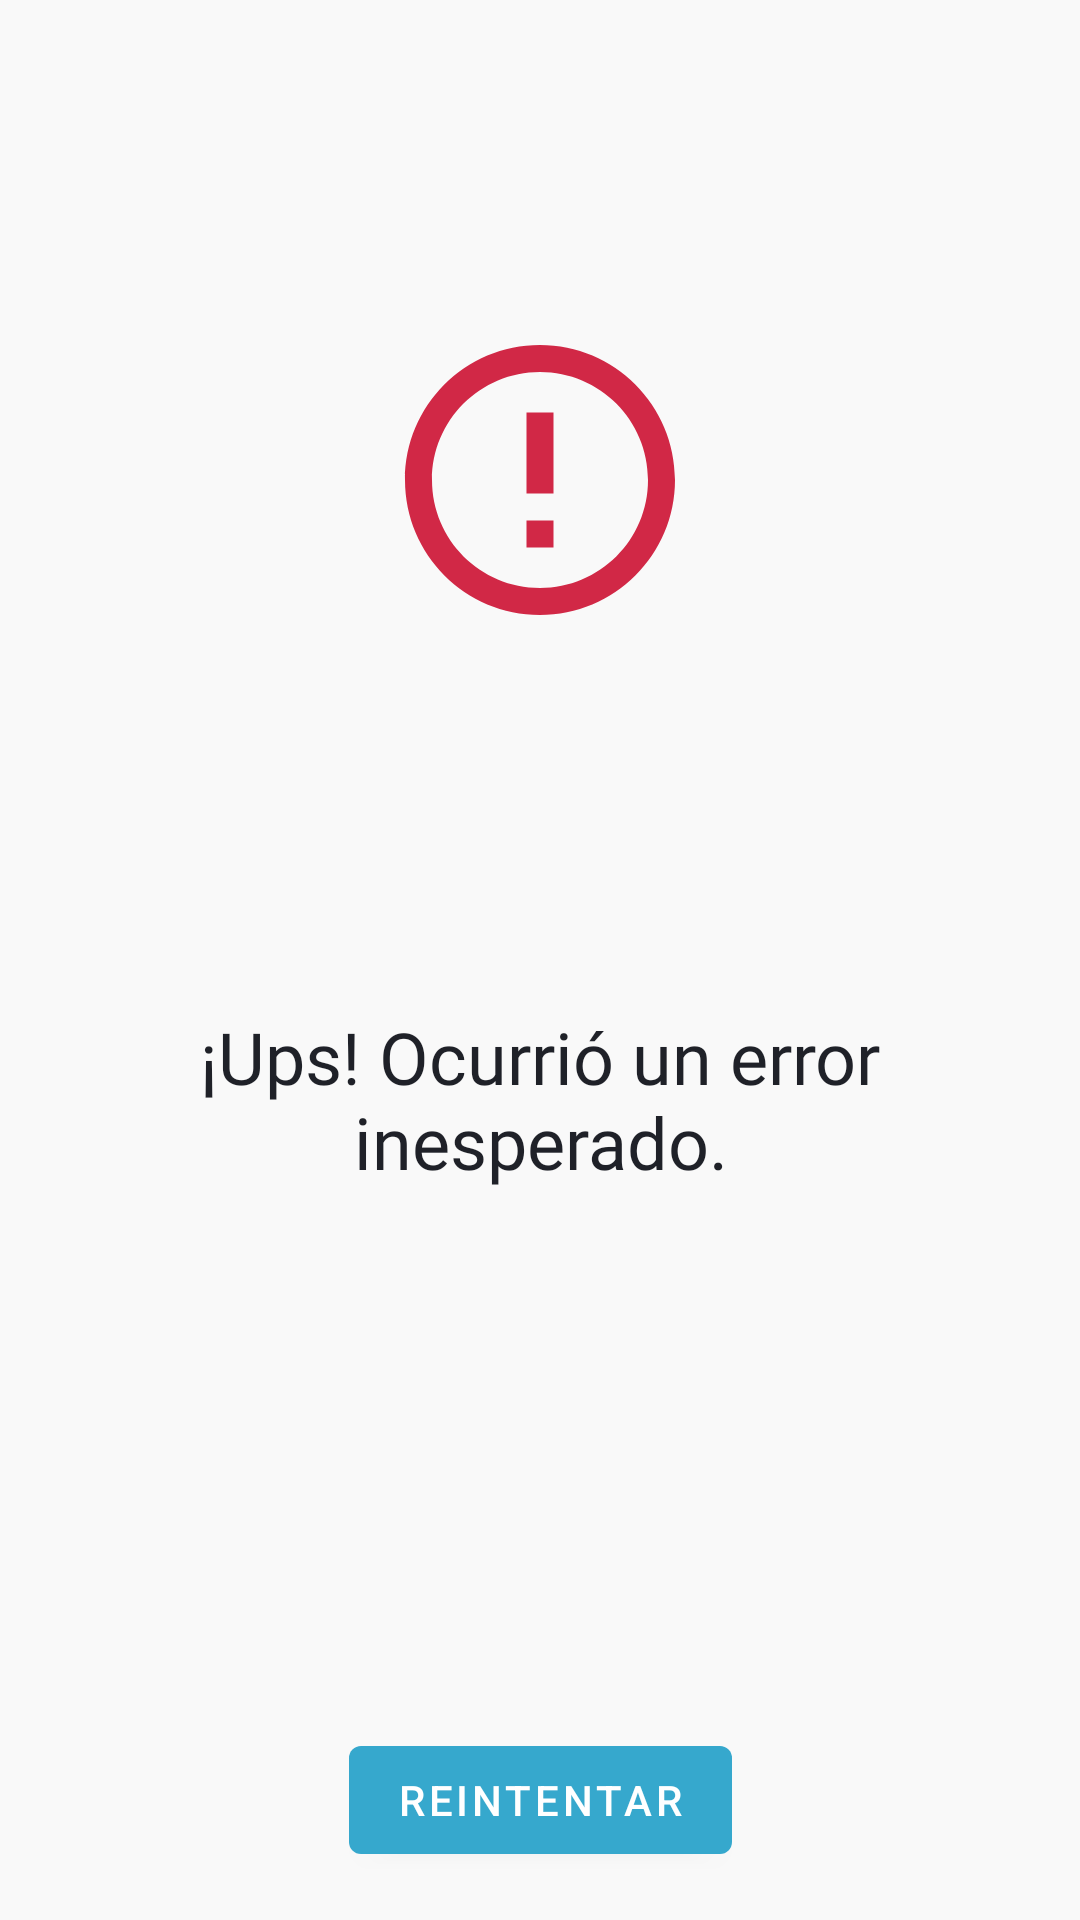

Icons on this 1080×1920 Android screen, each with its box as box=[x1, y1, x2, y2]:
error: box=[405, 345, 675, 615]
